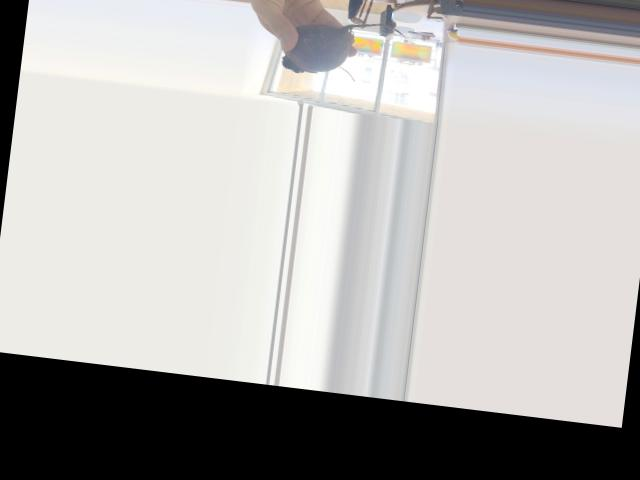beet: (281, 12, 406, 85)
